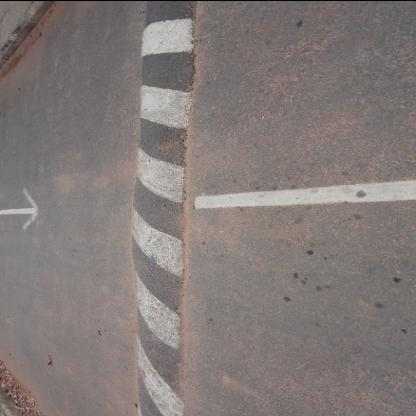speed-bumps: (128, 1, 201, 415)
